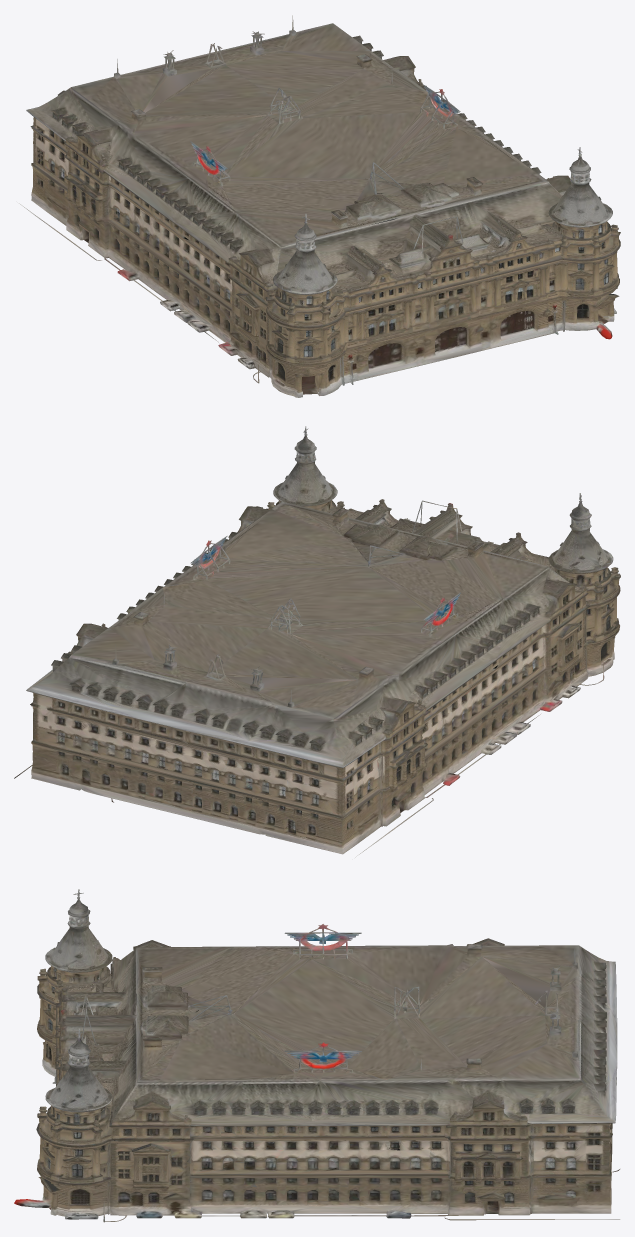
File: haydarpasa2.glb
3 renders of one model, top to bottom at view 1: azimuth 30°, elevation 25°; view 2: azimuth 150°, elevation 25°; view 3: azimuth 270°, elevation 25°, orthographic. The views are drawn at different scales.
Visible parts, largest first — view 1: haydarpasa; view 2: haydarpasa; view 3: haydarpasa.
Boxes of the visible parts, bbox=[...] form: haydarpasa: bbox=[19, 15, 620, 397]; haydarpasa: bbox=[14, 426, 620, 857]; haydarpasa: bbox=[14, 889, 619, 1222].
Size of the model in its own units: 1.31 by 0.6168 by 1.92.
Materials: 1 (1 with a texture image).
